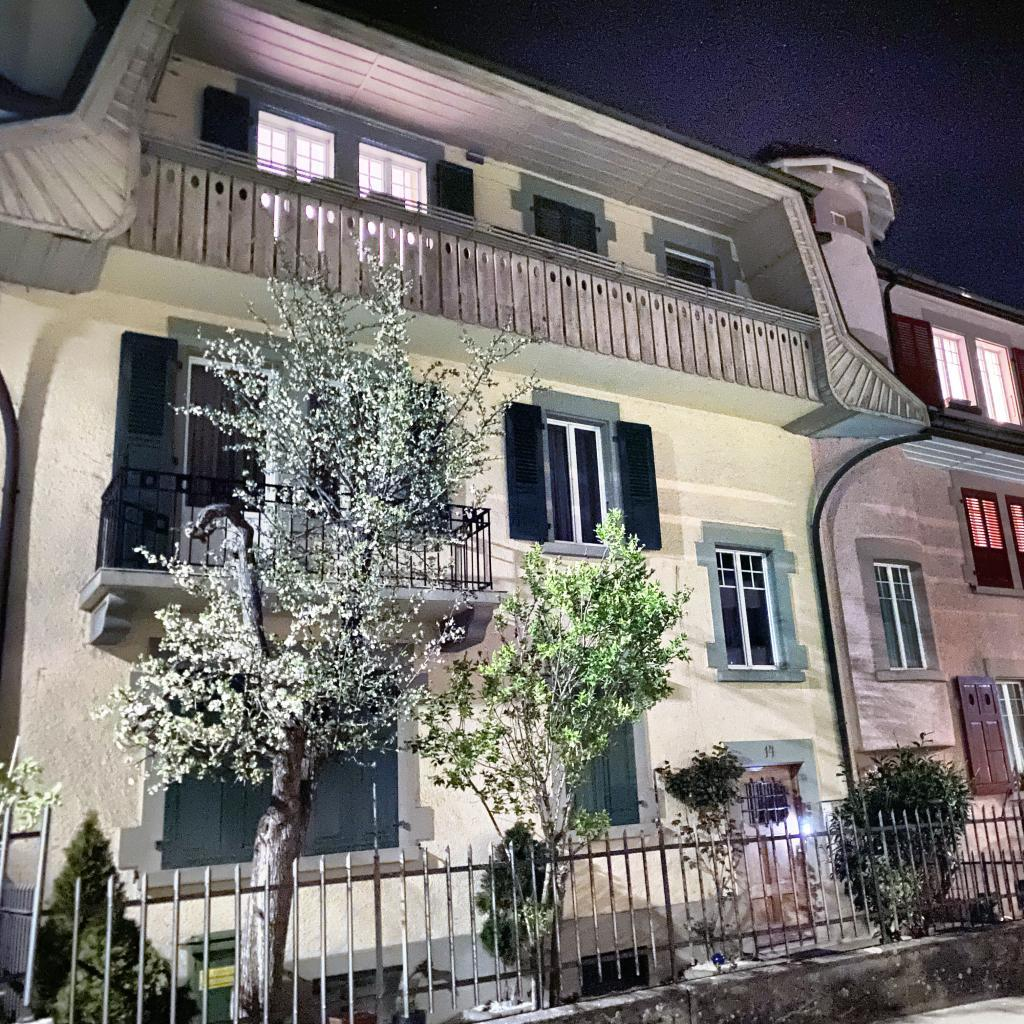balcony-fence: (118, 124, 823, 403), (90, 464, 498, 594)
fence: (467, 921, 1024, 1024)
street: (869, 998, 1024, 1024)
vegetation: (87, 217, 697, 1024), (18, 803, 202, 1024), (817, 728, 978, 943), (652, 740, 751, 963), (0, 755, 65, 849)
window: (159, 753, 399, 871), (184, 354, 346, 526), (564, 716, 641, 832), (546, 417, 608, 545), (716, 548, 780, 669), (873, 561, 929, 670), (960, 486, 1016, 590), (258, 120, 326, 183), (532, 192, 599, 254), (360, 153, 420, 211), (995, 681, 1024, 790), (932, 332, 971, 407), (977, 345, 1012, 423), (665, 246, 716, 288), (1003, 493, 1024, 591), (831, 210, 847, 227)
